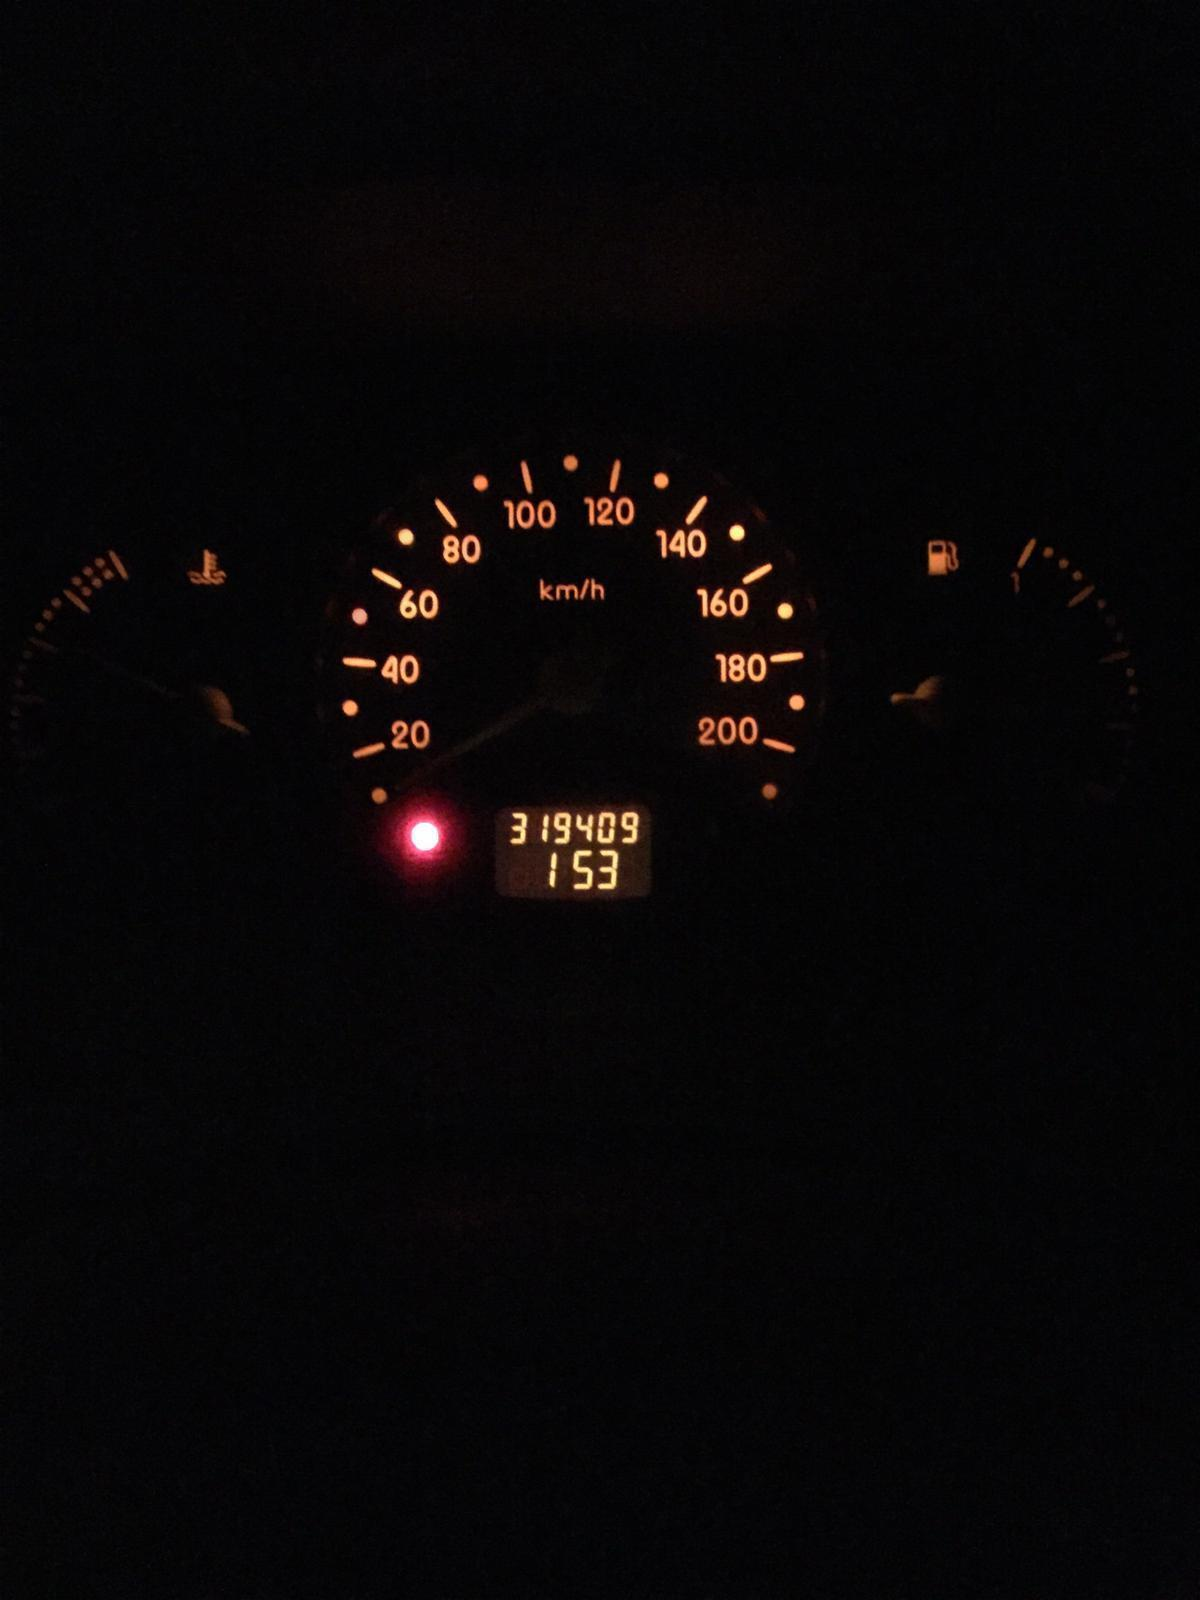0: (596, 811, 616, 844)
1: (547, 850, 557, 889), (539, 813, 550, 843)
3: (596, 849, 619, 889), (509, 813, 527, 844)
4: (574, 813, 594, 843)
5: (571, 849, 592, 889)
9: (552, 811, 571, 844), (619, 811, 638, 844)
odometer: (490, 801, 655, 901)
